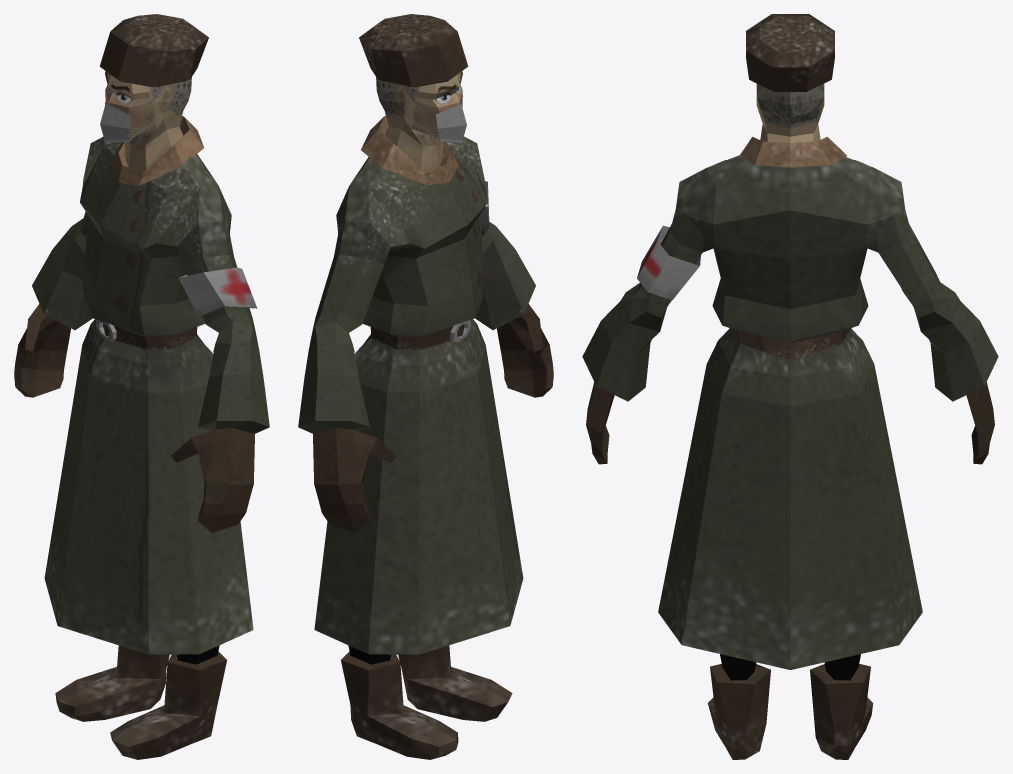
Rendered from Solider1_med.fbx.
3 views of the same model, side by side, from view 1: azimuth 30°, elevation 25°; view 2: azimuth 150°, elevation 25°; view 3: azimuth 270°, elevation 25° (orthographic). The views are drawn at different scales.
Parts seen in each view (by area): view 1: Solider_1.001; view 2: Solider_1.001; view 3: Solider_1.001.
Part boxes in pixels (box(x1,y1,x2,y2)): Solider_1.001: box(14, 14, 269, 759); Solider_1.001: box(298, 14, 553, 759); Solider_1.001: box(582, 14, 998, 759).
Bounding box in the file's own units: 91.21 × 377 × 197.
1 material, 1 textured.
